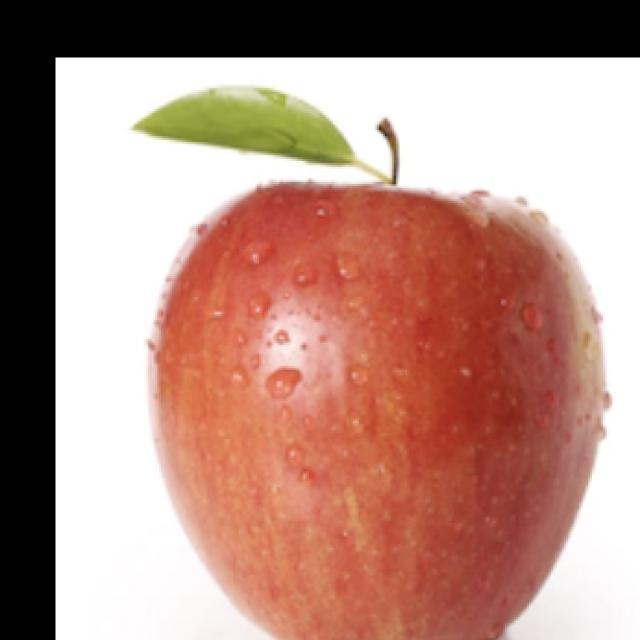Fresh Apple: (148, 170, 612, 640)
